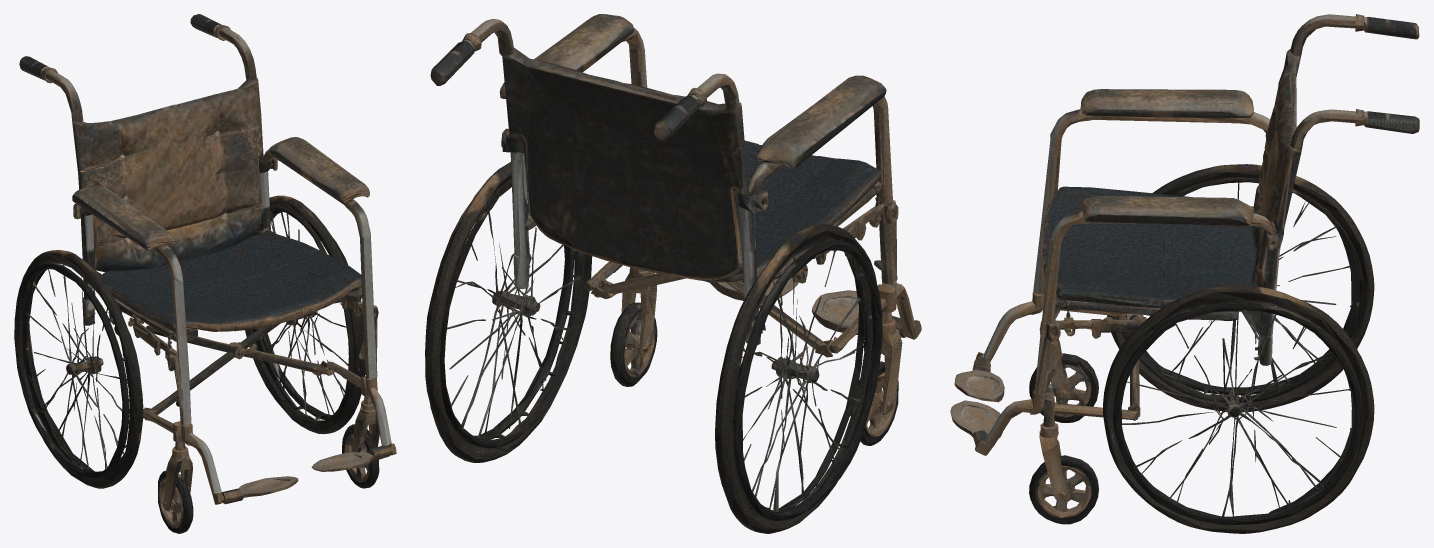
File: sedia_rotelle_N.glb
3 renders of one model, left to right at view 1: azimuth 30°, elevation 25°; view 2: azimuth 150°, elevation 25°; view 3: azimuth 270°, elevation 25°, orthographic. The views are drawn at different scales.
Parts seen in each view (by area): view 1: Mesh_0; view 2: Mesh_0; view 3: Mesh_0.
Boxes of the visible parts, x1,y1,x2,y2 form: Mesh_0: (14, 14, 396, 533); Mesh_0: (425, 14, 921, 533); Mesh_0: (950, 14, 1419, 533).
Bounding box in the file's own units: 0.6742 × 0.95 × 0.9841.
Materials: 1 (1 with a texture image).
